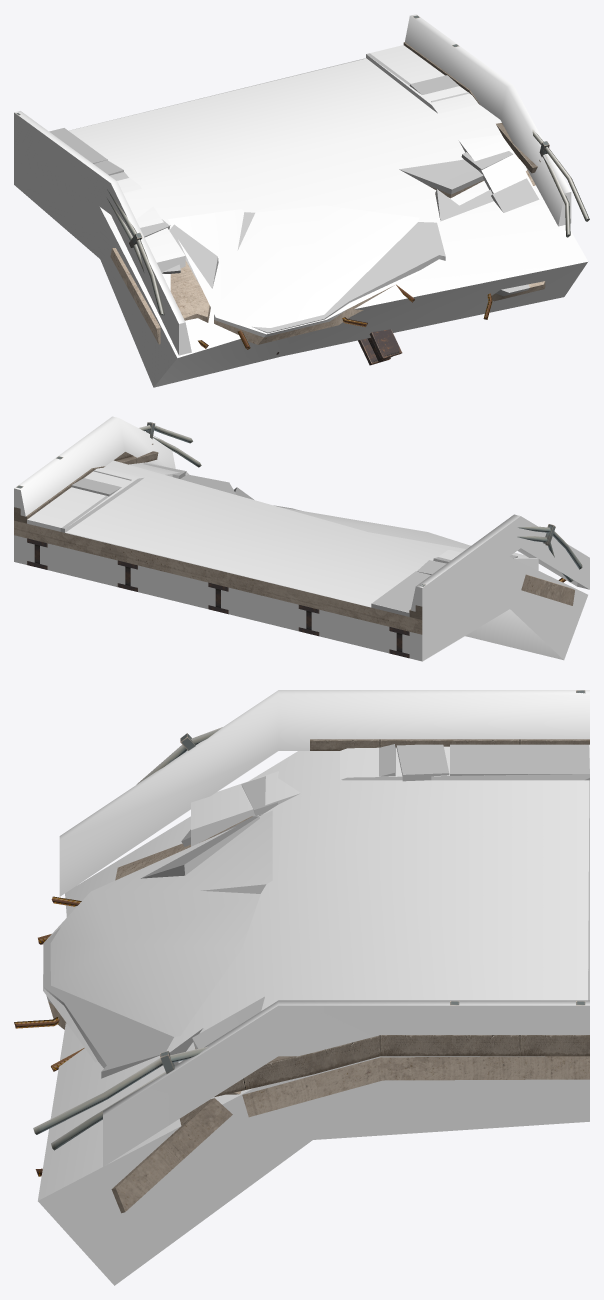
File: street_overpass_D.fbx
The picture shows the model from 3 angles, top to bottom: view 1: azimuth 30°, elevation 25°; view 2: azimuth 150°, elevation 25°; view 3: azimuth 270°, elevation 25°; orthographic projection. The views are drawn at different scales.
Visible parts, largest first — view 1: street_overpass_D_COL, street_overpass_D; view 2: street_overpass_D_COL, street_overpass_D; view 3: street_overpass_D_COL, street_overpass_D.
Boxes of the visible parts, <box> form: street_overpass_D_COL: <box>14,14,588,387</box>; street_overpass_D: <box>16,15,589,365</box>; street_overpass_D_COL: <box>14,416,589,661</box>; street_overpass_D: <box>14,422,582,658</box>; street_overpass_D_COL: <box>38,690,589,1285</box>; street_overpass_D: <box>14,690,589,1213</box>.
Size of the model in its own units: 1643 by 763 by 1235.
